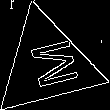M_W: (17, 35, 77, 93)
